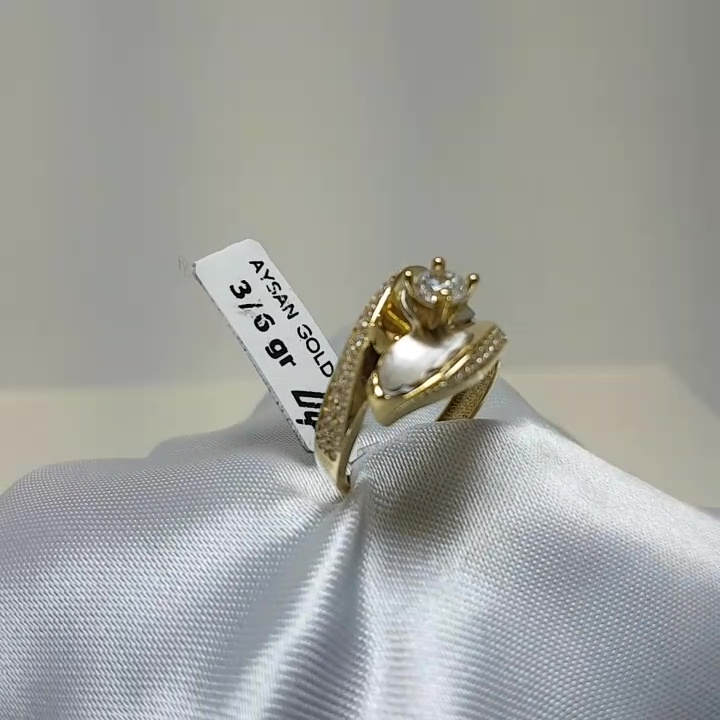Ring 6: (297, 243, 530, 520)
